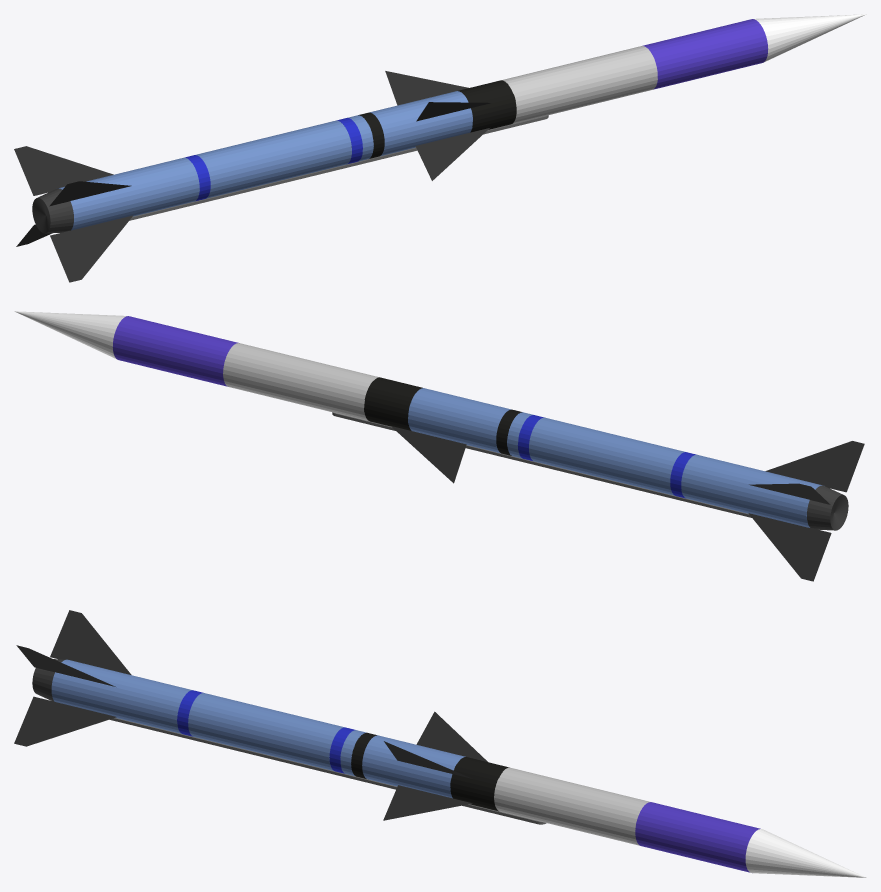
Rendered from Grafkom-WebGL.obj.
3 renders of one model, top to bottom at view 1: azimuth 30°, elevation 25°; view 2: azimuth 150°, elevation 25°; view 3: azimuth 330°, elevation 25°, orthographic.
Parts seen in each view (by area): view 1: Cylinder.010, Cylinder.004, Cylinder.012, Cylinder.003, Cylinder.006, Plane, Plane.003, Cone, Cylinder.005, Circle.002, Circle.001, Cube (+7 smaller); view 2: Cylinder.010, Cylinder.004, Cylinder.012, Cylinder.003, Cylinder.006, Plane.002, Plane.001, Cone, Cylinder.005, Circle, Cylinder.002, Cube (+5 smaller); view 3: Cylinder.010, Cylinder.004, Cylinder.012, Cylinder.003, Cylinder.006, Cone, Plane, Plane.003, Cylinder.005, Circle.002, Cube, Circle.001 (+7 smaller).
Boxes of the visible parts, x1,y1,x2,y2 form: Cylinder.010: (196, 120, 351, 198); Cylinder.004: (502, 46, 657, 123); Cylinder.012: (56, 157, 199, 230); Cylinder.003: (642, 19, 768, 89); Cylinder.006: (369, 91, 472, 156); Plane: (50, 215, 133, 282); Plane.003: (14, 146, 113, 195); Cone: (754, 14, 866, 62); Cylinder.005: (458, 80, 516, 132); Circle.002: (415, 128, 489, 180); Circle.001: (385, 71, 468, 105); Cube: (129, 115, 548, 220); Cylinder.010: (529, 417, 684, 495); Cylinder.004: (223, 343, 378, 420); Cylinder.012: (681, 454, 822, 527); Cylinder.003: (112, 316, 238, 386); Cylinder.006: (408, 388, 511, 453); Plane.002: (748, 513, 831, 581); Plane.001: (765, 441, 864, 492); Cone: (14, 311, 127, 358); Cylinder.005: (364, 377, 422, 430); Circle: (391, 426, 466, 483); Cylinder.002: (807, 485, 848, 530); Cube: (332, 412, 819, 529); Cylinder.010: (188, 693, 344, 770); Cylinder.004: (494, 767, 649, 845); Cylinder.012: (51, 659, 192, 733); Cylinder.003: (635, 802, 760, 872); Cylinder.006: (362, 735, 465, 798); Cone: (745, 829, 866, 877); Plane: (14, 696, 116, 746); Plane.003: (50, 610, 131, 674); Cylinder.005: (450, 757, 509, 811); Circle.002: (383, 785, 472, 820); Cube: (110, 718, 546, 824); Circle.001: (416, 711, 487, 761).
Bounding box in the file's own units: 1.87 × 0.2171 × 0.2175.
